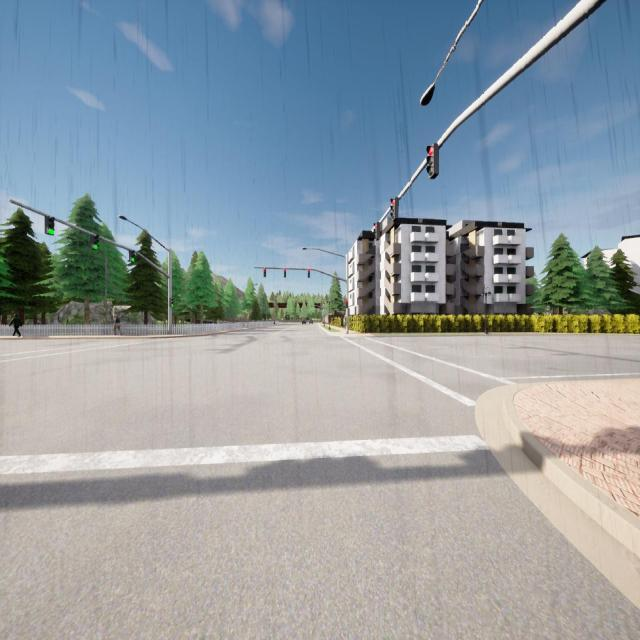Pedestrian: (8, 312, 22, 338), (114, 315, 124, 336)
Vehicle: (309, 318, 313, 324), (302, 320, 306, 324)
traffic_light: (426, 142, 439, 179), (44, 216, 54, 235), (391, 197, 398, 221), (373, 222, 380, 241), (92, 234, 99, 250), (130, 250, 134, 262), (170, 298, 173, 307), (264, 267, 266, 277), (284, 268, 286, 278), (308, 268, 310, 278), (346, 299, 348, 308)
